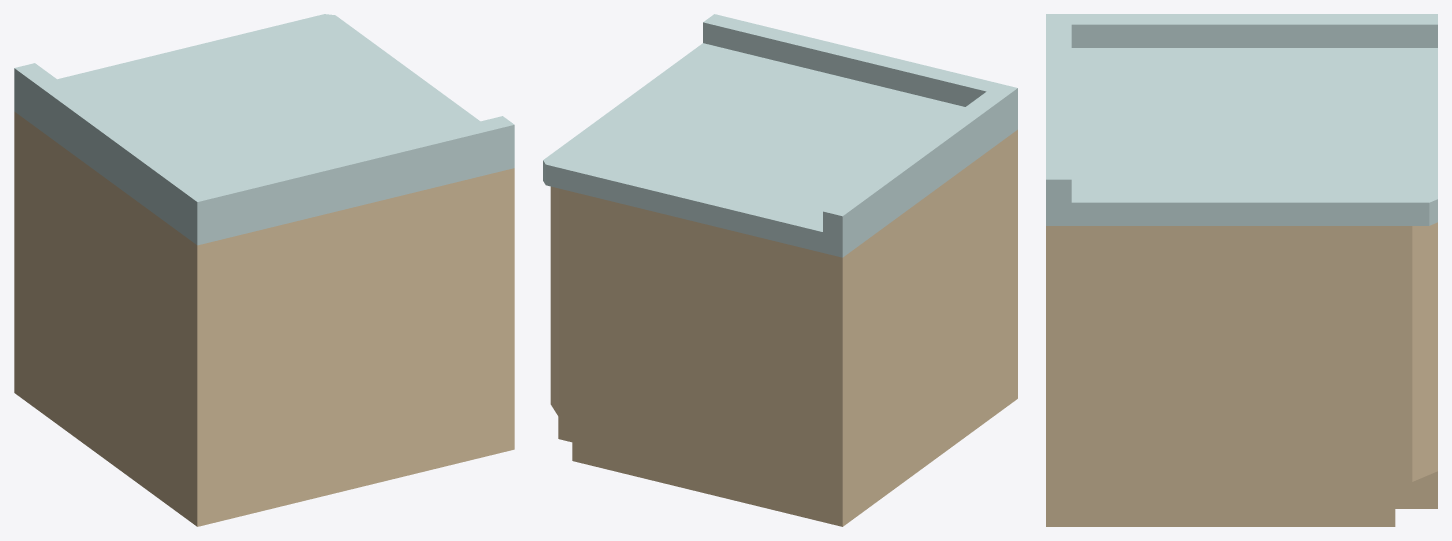
Rendered from kitchenCabinetCornerInner.glb.
3 views of the same model, side by side, from view 1: azimuth 30°, elevation 25°; view 2: azimuth 150°, elevation 25°; view 3: azimuth 270°, elevation 25° (orthographic). The views are drawn at different scales.
Visible parts, largest first — view 1: kitchenCabinetCornerInner; view 2: kitchenCabinetCornerInner; view 3: kitchenCabinetCornerInner.
Part boxes in pixels (bbox=[...]): kitchenCabinetCornerInner: bbox=[14, 14, 514, 526]; kitchenCabinetCornerInner: bbox=[543, 14, 1017, 526]; kitchenCabinetCornerInner: bbox=[1046, 14, 1437, 526].
Bounding box in the file's own units: 4.6 × 4.5 × 4.6.
